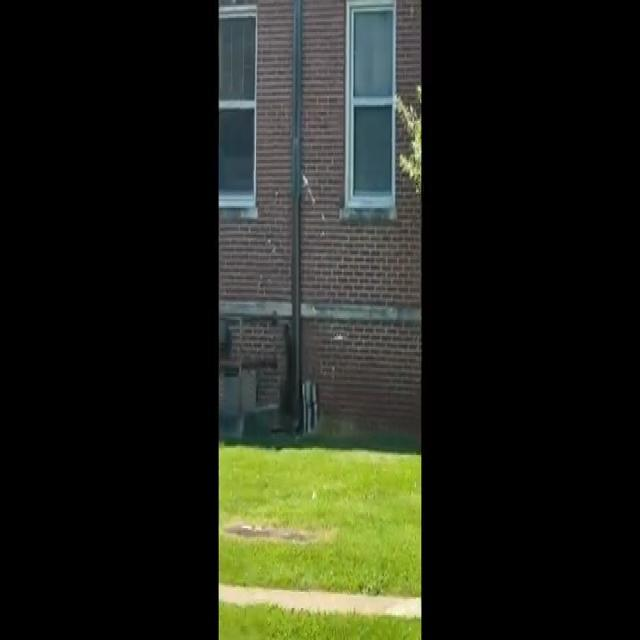drone: (326, 319, 350, 351)
